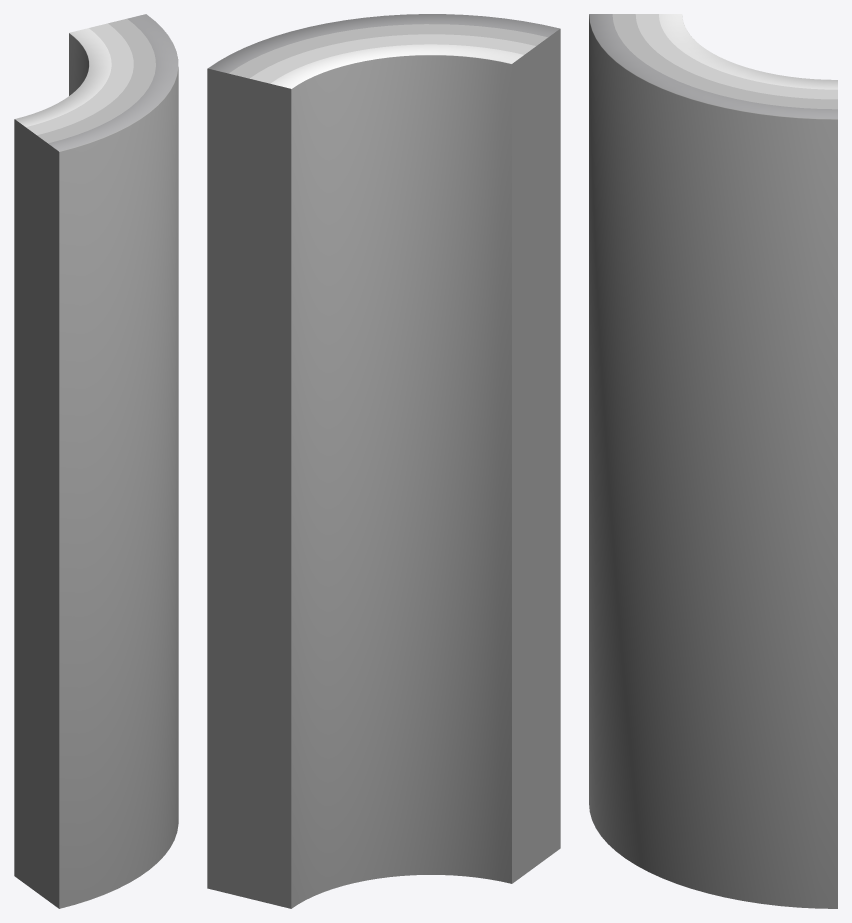
The model's file is road_turn_20_right.FBX.
3 views of the same model, side by side, from view 1: azimuth 30°, elevation 25°; view 2: azimuth 150°, elevation 25°; view 3: azimuth 270°, elevation 25° (orthographic). The views are drawn at different scales.
Parts seen in each view (by area): view 1: road_turn_20_right; view 2: road_turn_20_right; view 3: road_turn_20_right.
Boxes of the visible parts, box(x1,y1,x2,y2) form: road_turn_20_right: box(14, 14, 178, 908); road_turn_20_right: box(207, 14, 560, 908); road_turn_20_right: box(589, 14, 837, 908).
Size of the model in its own units: 32 by 112 by 32.
Materials: 1 (1 with a texture image).
